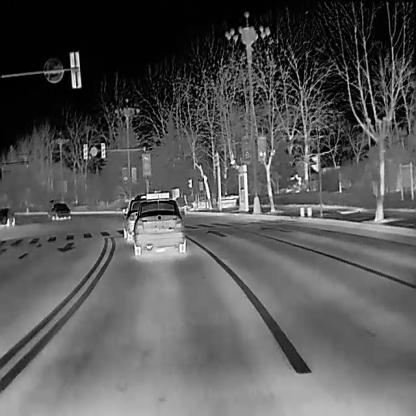car: (131, 189, 186, 256), (121, 194, 145, 240), (47, 201, 70, 219), (0, 207, 14, 226)
